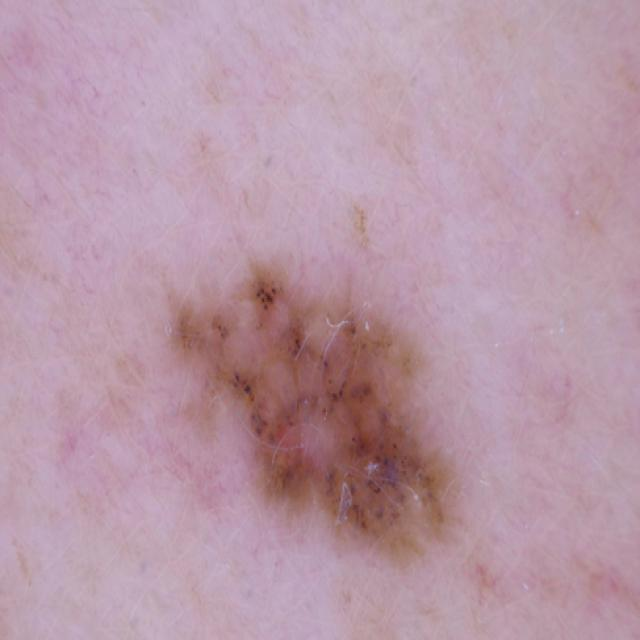Carcinoma: (166, 252, 471, 569)
